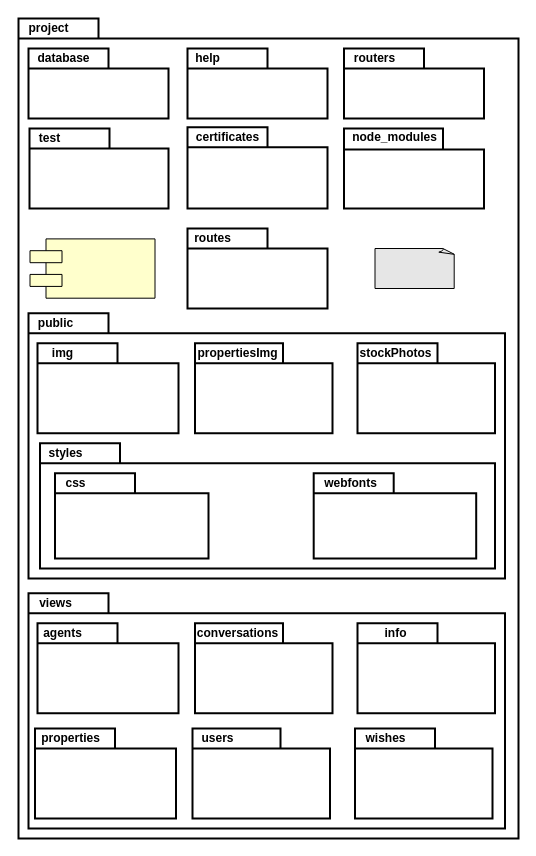
The diagram is 536 pixels wide and 856 high, and some of its shapes have lost their labels. Here are the shapes that lost their labels. From the top down, the centre of each, then its label:
(92,268): app.js
(414,268): package.json
